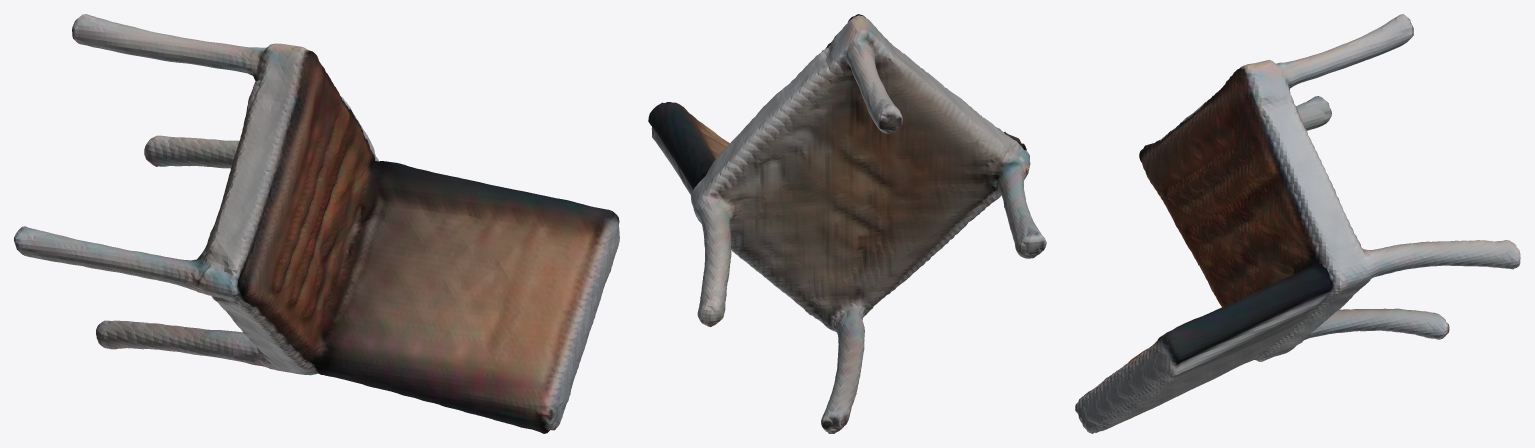
The picture shows the model from 3 angles, left to right: view 1: azimuth 30°, elevation 25°; view 2: azimuth 150°, elevation 25°; view 3: azimuth 270°, elevation 25°; orthographic projection. The views are drawn at different scales.
Size of the model in its own units: 0.9891 by 0.6556 by 0.8596.
